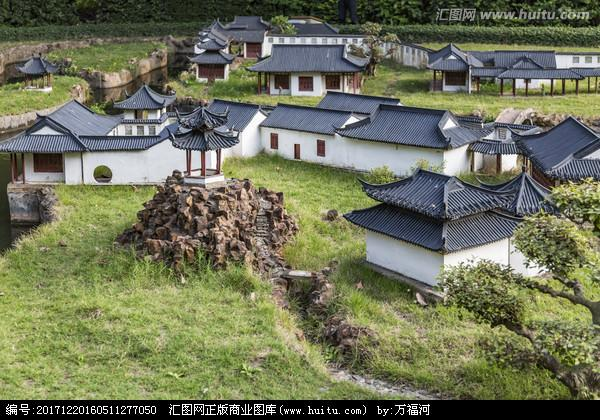buildings: (245, 28, 439, 170), (358, 165, 541, 296)
